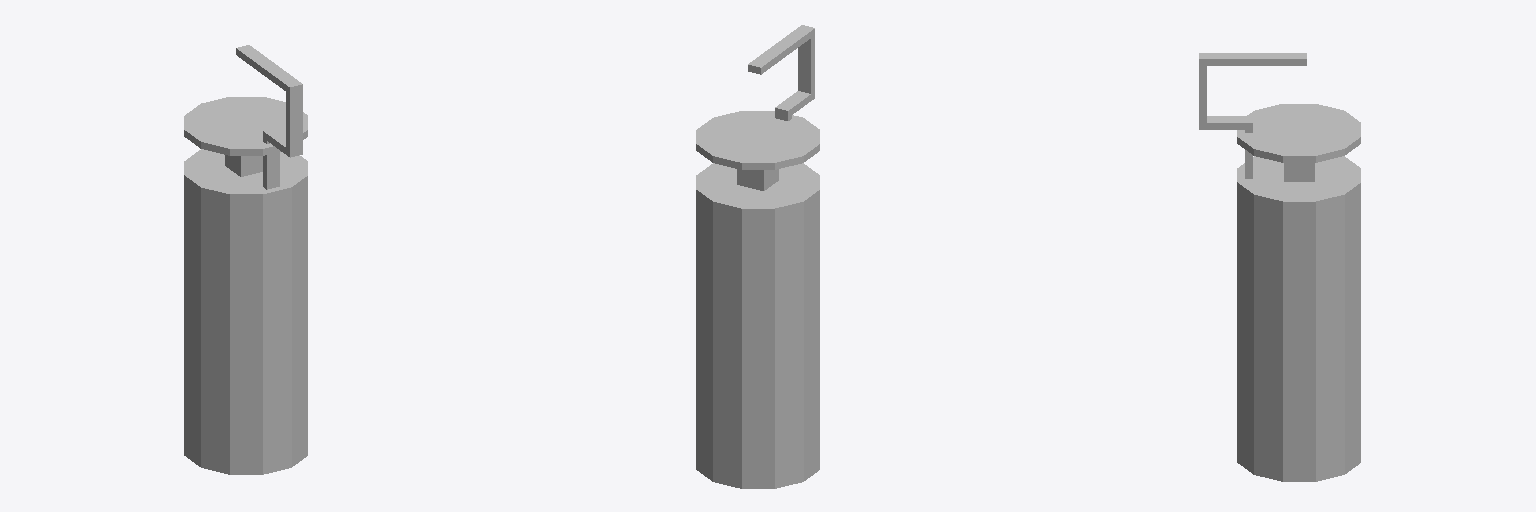
The model's file is silicon_crucible_base.obj.
3 renders of one model, left to right at view 1: azimuth 30°, elevation 25°; view 2: azimuth 150°, elevation 25°; view 3: azimuth 270°, elevation 25°, orthographic.
Parts seen in each view (by area): view 1: cylinder, cube; view 2: cylinder, cube; view 3: cylinder, cube.
Boxes of the visible parts, box(x1,y1,x2,y2) form: cylinder: box(184, 97, 307, 474); cube: box(225, 45, 302, 189); cylinder: box(696, 111, 819, 488); cube: box(737, 25, 814, 190); cylinder: box(1237, 104, 1360, 481); cube: box(1199, 53, 1314, 181).
Bounding box in the file's own units: 1 × 3.56 × 1.31.